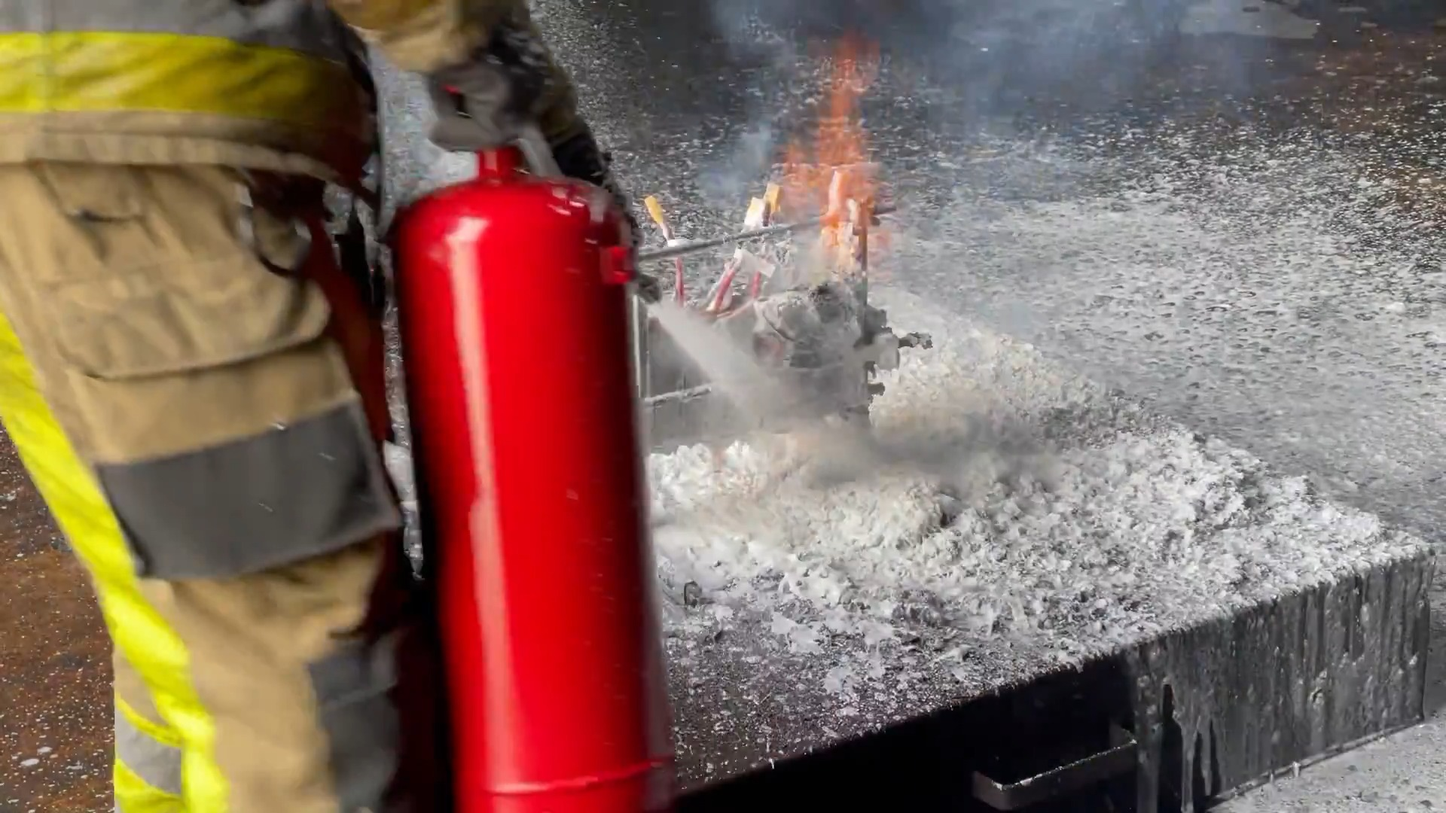fire: (742, 27, 883, 291)
smoke: (715, 1, 1043, 196)
